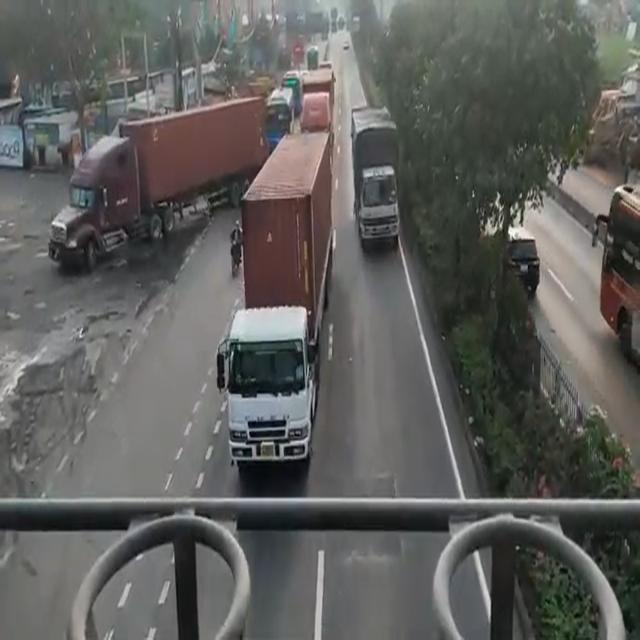truck: (44, 90, 260, 261), (228, 123, 332, 477), (354, 106, 403, 250)
